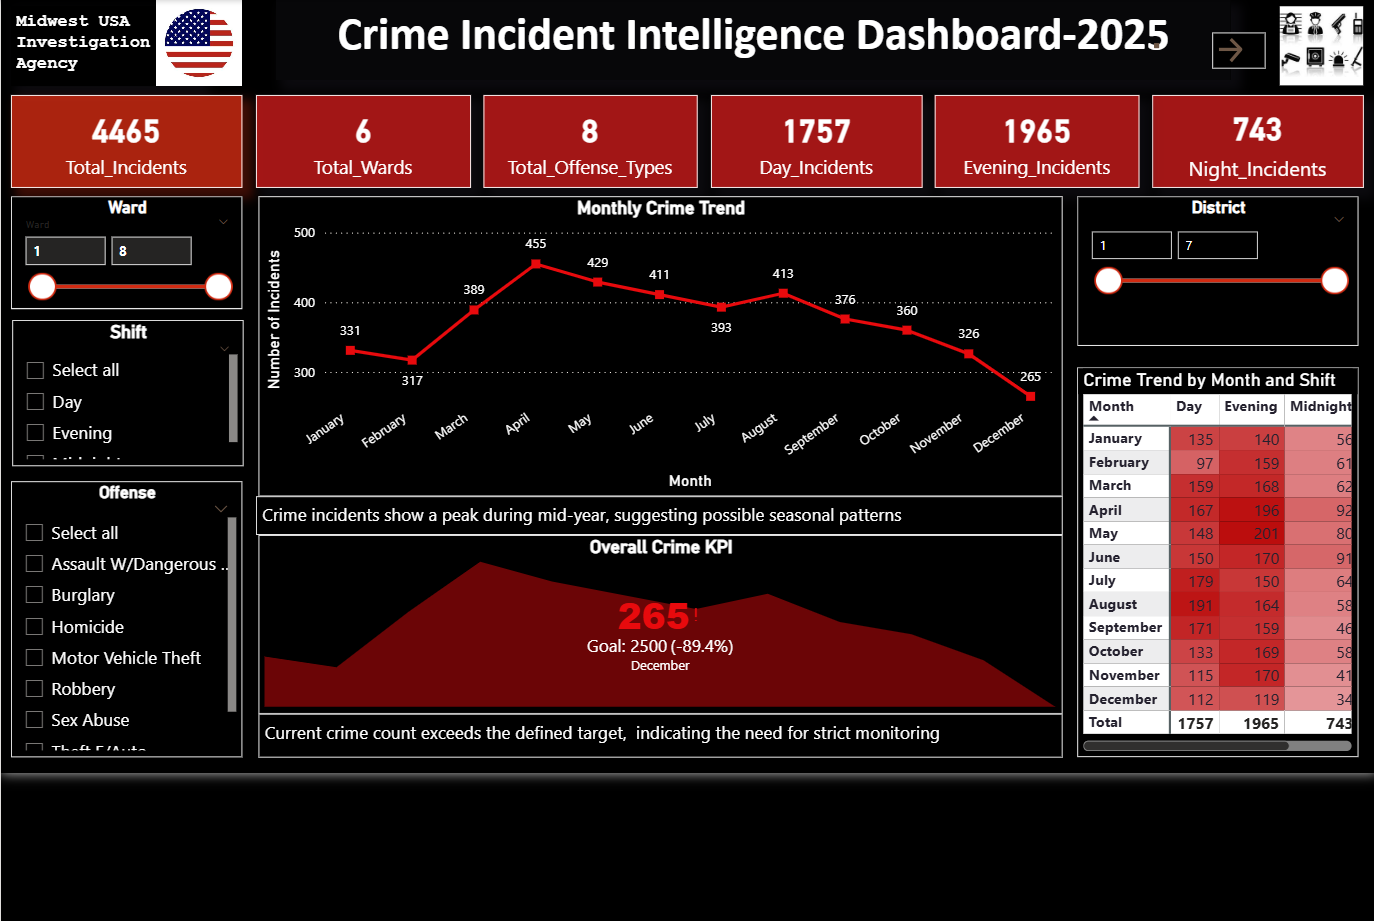

The dashboard page shown, as its layout file describes it:
{"tool":"powerbi","page":{"name":"Home","canvas":[1280,720],"ordinal":0},"visuals":[{"type":"textbox","box":[255.8,0,888.4,74.4],"z":0},{"type":"textbox","box":[9.3,5.8,174.4,74.4],"z":1000},{"type":"image","box":[1176.5,6.2,103.7,73.9],"z":2000},{"type":"image","box":[144.2,0,80.2,80.2],"z":3000},{"type":"card","fields":{"Values":["Crime_Incidents_in_2025.Total_Incidents"]},"box":[9.3,88.4,215.1,86],"z":4000},{"type":"card","fields":{"Values":["Crime_Incidents_in_2025.Total_Wards"]},"box":[237.2,88.4,200,86],"z":5000},{"type":"card","fields":{"Values":["Crime_Incidents_in_2025.Total_Offense_Types"]},"box":[448.8,88.4,198.8,86],"z":6000},{"type":"card","fields":{"Values":["Crime_Incidents_in_2025.Day_Incidents"]},"box":[660.5,88.4,196.5,86],"z":7000},{"type":"card","fields":{"Values":["Crime_Incidents_in_2025.Night_Incidents"]},"box":[1070.9,88.4,196.5,86],"z":8000},{"type":"card","fields":{"Values":["Crime_Incidents_in_2025.Evening_Incidents"]},"box":[868.6,88.4,190.7,86],"z":9000},{"type":"slicer","title":"Ward","fields":{"Values":["Crime_Incidents_in_2025.Ward"]},"box":[9.3,182.6,215.1,104.7],"z":10000},{"type":"slicer","title":"Offense","fields":{"Values":["Crime_Incidents_in_2025.Offense"]},"box":[9.3,447.7,215.1,257],"z":11000},{"type":"slicer","title":"Shift","fields":{"Values":["Crime_Incidents_in_2025.Shift"]},"box":[10.5,297.7,215.1,136],"z":12000},{"type":"slicer","title":"District","fields":{"Values":["Crime_Incidents_in_2025.District"]},"box":[1001.2,182.6,261.6,139.5],"z":13000},{"type":"actionButton","box":[1068.6,36,100,12.8],"z":14000},{"type":"lineChart","title":" Monthly Crime Trend","fields":{"Category":["Crime_Incidents_in_2025.Report_Date.Variation.Date Hierarchy.Month"],"Y":["Crime_Incidents_in_2025.Total_Incidents"]},"box":[239.5,182.6,747.7,279.1],"z":15000},{"type":"pivotTable","title":"Crime Trend by Month and Shift","fields":{"Rows":["Crime_Incidents_in_2025.Report_Date.Variation.Date Hierarchy.Month"],"Columns":["Crime_Incidents_in_2025.Shift"],"Values":["Crime_Incidents_in_2025.Total_Incidents"]},"box":[1001.2,341.9,261.6,362.8],"z":16000},{"type":"textbox","box":[237.2,461.6,750,36],"z":17000},{"type":"kpi","title":"Overall Crime KPI","fields":{"Indicator":["Crime_Incidents_in_2025.Total_Incidents"],"TrendLine":["Crime_Incidents_in_2025.Report_Date.Variation.Date Hierarchy.Month"],"Goal":["Crime_Incidents_in_2025.Crime_Target"]},"box":[239.5,497.7,747.7,166.3],"z":18000},{"type":"textbox","box":[239.5,664,747.7,40.7],"z":19000},{"type":"actionButton","box":[1127.2,30.8,49.3,33.9],"z":20000}]}

Visuals, with their boxes on the page's 1280x720 design canvas (x1, y1, x2, y2). These are canvas units, not pixel positions in the 1374x921 screenshot, which may show the page scaled, cropped or inside an application window:
textbox: (x1=256, y1=0, x2=1144, y2=74)
textbox: (x1=9, y1=6, x2=184, y2=80)
image: (x1=1176, y1=6, x2=1280, y2=80)
image: (x1=144, y1=0, x2=224, y2=80)
card - Crime_Incidents_in_2025.Total_Incidents: (x1=9, y1=88, x2=224, y2=174)
card - Crime_Incidents_in_2025.Total_Wards: (x1=237, y1=88, x2=437, y2=174)
card - Crime_Incidents_in_2025.Total_Offense_Types: (x1=449, y1=88, x2=648, y2=174)
card - Crime_Incidents_in_2025.Day_Incidents: (x1=660, y1=88, x2=857, y2=174)
card - Crime_Incidents_in_2025.Night_Incidents: (x1=1071, y1=88, x2=1267, y2=174)
card - Crime_Incidents_in_2025.Evening_Incidents: (x1=869, y1=88, x2=1059, y2=174)
"Ward" slicer: (x1=9, y1=183, x2=224, y2=287)
"Offense" slicer: (x1=9, y1=448, x2=224, y2=705)
"Shift" slicer: (x1=10, y1=298, x2=226, y2=434)
"District" slicer: (x1=1001, y1=183, x2=1263, y2=322)
actionButton: (x1=1069, y1=36, x2=1169, y2=49)
" Monthly Crime Trend" lineChart: (x1=240, y1=183, x2=987, y2=462)
"Crime Trend by Month and Shift" pivotTable: (x1=1001, y1=342, x2=1263, y2=705)
textbox: (x1=237, y1=462, x2=987, y2=498)
"Overall Crime KPI" kpi: (x1=240, y1=498, x2=987, y2=664)
textbox: (x1=240, y1=664, x2=987, y2=705)
actionButton: (x1=1127, y1=31, x2=1176, y2=65)
